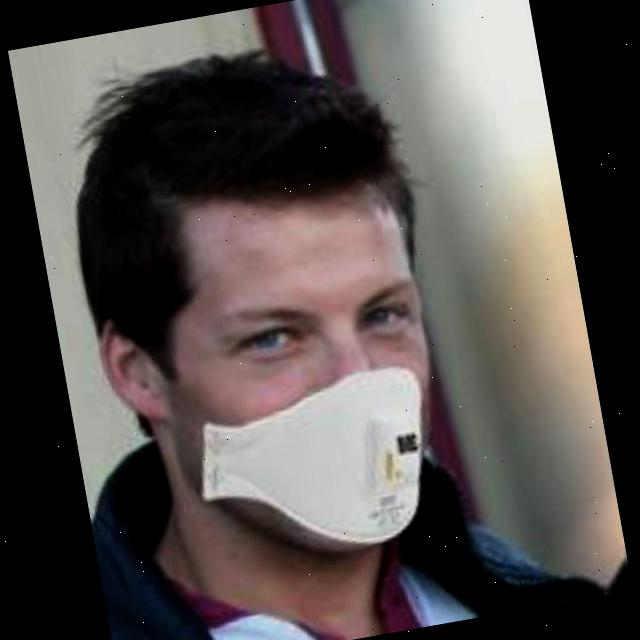suspicion: (32, 72, 531, 568)
